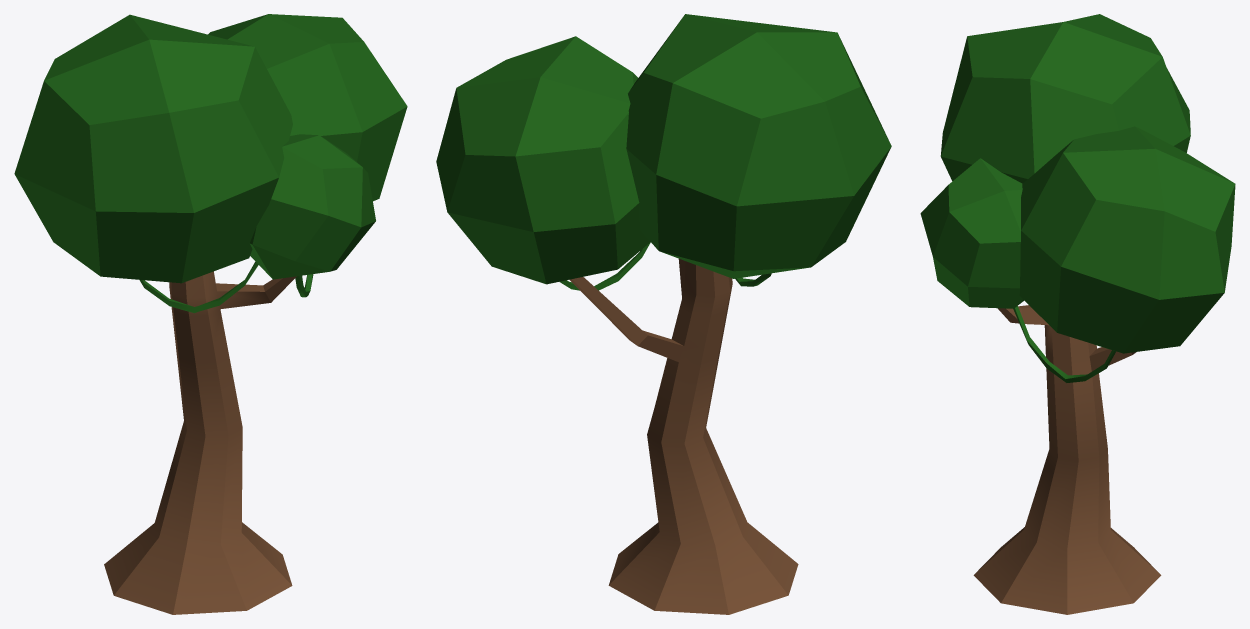
Rendered from TreeMed.fbx.
3 views of the same model, side by side, from view 1: azimuth 30°, elevation 25°; view 2: azimuth 150°, elevation 25°; view 3: azimuth 270°, elevation 25° (orthographic). The views are drawn at different scales.
Visible parts, largest first — view 1: TREE_Medium; view 2: TREE_Medium; view 3: TREE_Medium.
Part boxes in pixels (x1=…): TREE_Medium: x1=14, y1=14, x2=407, y2=614; TREE_Medium: x1=436, y1=14, x2=891, y2=614; TREE_Medium: x1=920, y1=14, x2=1235, y2=614.
Size of the model in its own units: 9.84 by 13.44 by 7.25.
